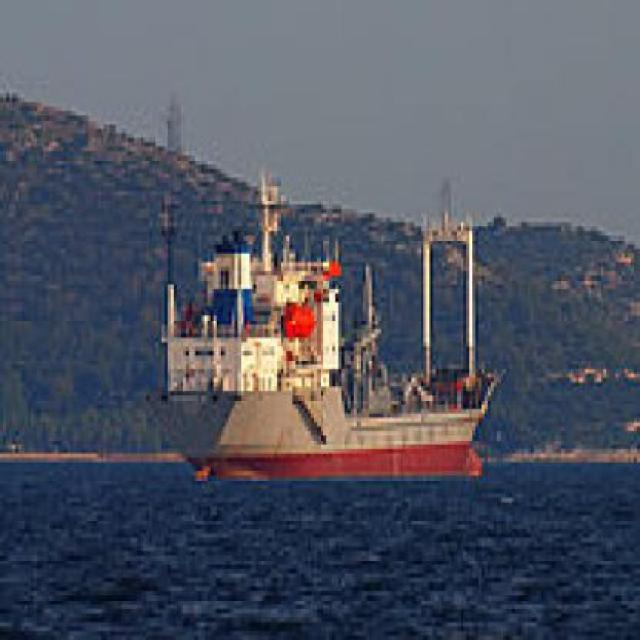container: (153, 157, 507, 490)
